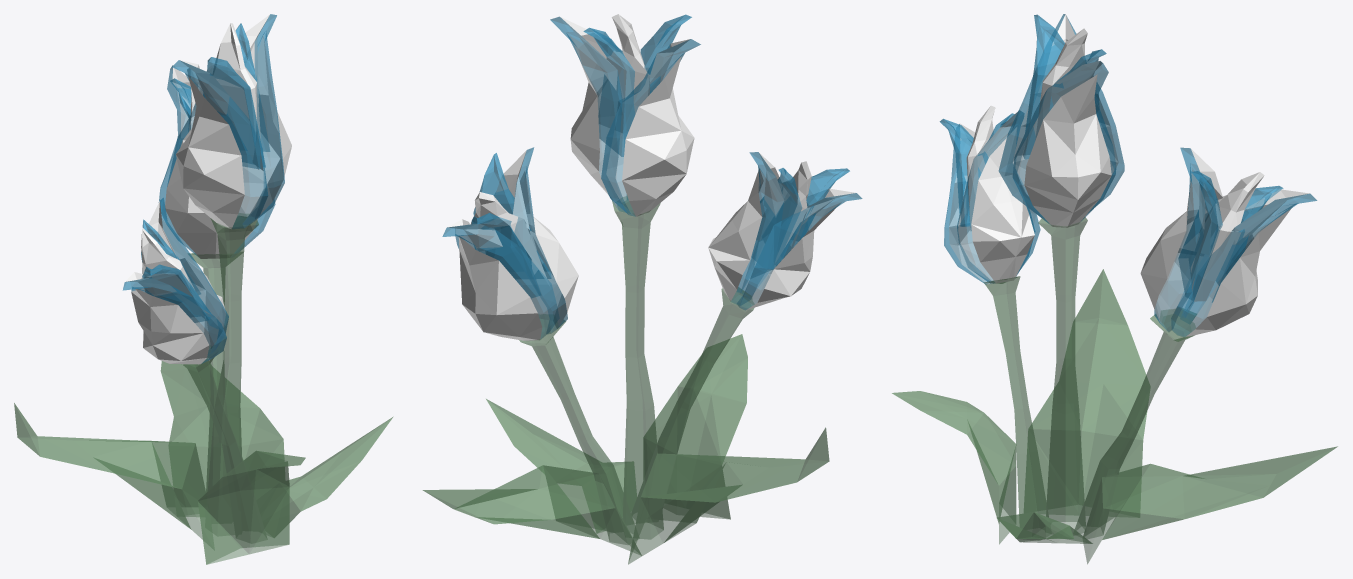
File: Flower_04.glb
The picture shows the model from 3 angles, left to right: view 1: azimuth 30°, elevation 25°; view 2: azimuth 150°, elevation 25°; view 3: azimuth 270°, elevation 25°; orthographic projection. The views are drawn at different scales.
Visible parts, largest first — view 1: flower_4; view 2: flower_4; view 3: flower_4.
Boxes of the visible parts, left/top/right/bottom form: flower_4: left=14, top=14, right=393, bottom=564; flower_4: left=422, top=14, right=862, bottom=564; flower_4: left=892, top=14, right=1337, bottom=564.
Bounding box in the file's own units: 0.6512 × 0.876 × 0.6996.
Materials: 1 (1 with a texture image).
